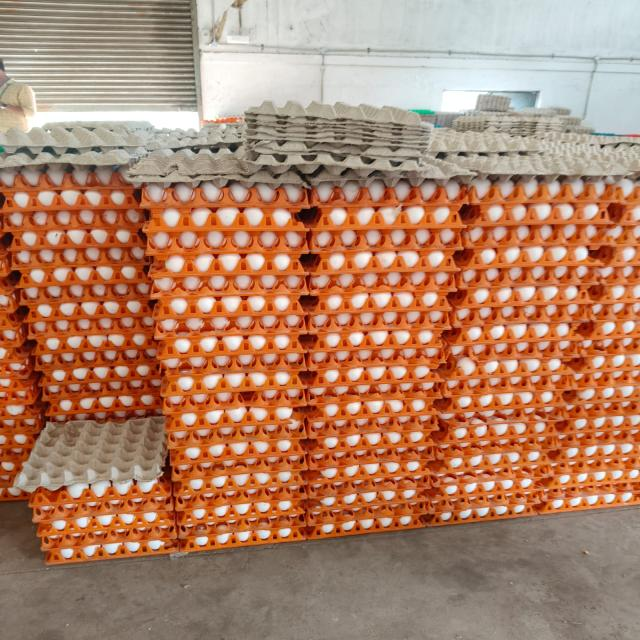egg_tray: (12, 211, 160, 420), (146, 184, 306, 373), (450, 180, 615, 324), (436, 324, 572, 478), (159, 334, 306, 476), (167, 405, 306, 550), (542, 320, 639, 512), (306, 394, 434, 536), (450, 204, 600, 324), (306, 363, 439, 496), (437, 357, 572, 478), (305, 411, 435, 536), (308, 290, 446, 406), (307, 363, 441, 479), (165, 388, 306, 493), (16, 418, 171, 513), (429, 410, 557, 524), (428, 411, 556, 525), (158, 316, 305, 415), (158, 333, 305, 428), (152, 254, 306, 338), (11, 210, 149, 303), (439, 323, 581, 413), (166, 404, 306, 495), (305, 424, 433, 523), (30, 478, 176, 563), (448, 246, 599, 326), (151, 254, 306, 331), (244, 101, 430, 165), (145, 184, 308, 257), (243, 114, 430, 177), (309, 180, 463, 253), (36, 332, 161, 421), (305, 398, 435, 483), (441, 316, 578, 396), (28, 300, 156, 384), (543, 404, 639, 512), (462, 180, 620, 245), (12, 231, 150, 305), (438, 341, 575, 414), (306, 462, 436, 535), (539, 418, 639, 512), (0, 274, 41, 500), (2, 121, 147, 184), (166, 405, 306, 470), (34, 479, 173, 544), (149, 246, 307, 302), (428, 451, 549, 524), (5, 208, 146, 270), (34, 319, 155, 391), (448, 268, 596, 326), (306, 473, 435, 538), (448, 268, 591, 326), (176, 486, 305, 550), (144, 208, 306, 258), (561, 351, 639, 454), (438, 356, 577, 410), (435, 376, 573, 429), (170, 425, 305, 479), (456, 238, 603, 287), (246, 139, 421, 180), (149, 253, 307, 298), (462, 200, 611, 247), (462, 198, 611, 245), (310, 207, 462, 253), (308, 249, 459, 295), (305, 483, 429, 539), (539, 443, 639, 512), (26, 298, 153, 352), (175, 486, 306, 538), (155, 294, 306, 339), (303, 399, 438, 449), (29, 477, 172, 524), (305, 288, 450, 334), (424, 470, 543, 526), (162, 372, 306, 418), (424, 471, 542, 526), (453, 247, 602, 290), (157, 332, 306, 375), (307, 421, 434, 471), (165, 404, 306, 449), (434, 410, 565, 458), (306, 488, 429, 539), (582, 246, 639, 356), (567, 320, 639, 405), (447, 285, 591, 327), (0, 171, 139, 214), (307, 328, 445, 371), (26, 285, 151, 332), (444, 320, 583, 362), (0, 154, 132, 198), (19, 262, 150, 306), (12, 231, 150, 272), (4, 204, 145, 244), (20, 261, 150, 304), (304, 364, 442, 404), (10, 228, 145, 268), (164, 379, 306, 417), (141, 180, 309, 212), (19, 264, 150, 305), (591, 244, 639, 353), (465, 176, 633, 207), (38, 512, 174, 550), (306, 474, 436, 513), (27, 300, 153, 340), (141, 180, 309, 210), (308, 398, 435, 437), (0, 276, 38, 406), (570, 319, 639, 390), (47, 381, 162, 422), (306, 501, 427, 539), (43, 514, 174, 549), (179, 516, 306, 552), (570, 349, 639, 415), (309, 179, 466, 208), (0, 401, 45, 501), (40, 365, 161, 402), (40, 363, 160, 399), (27, 296, 152, 330), (2, 185, 139, 216), (173, 465, 306, 496), (434, 389, 566, 420), (0, 163, 131, 194), (307, 504, 425, 536), (462, 224, 608, 248), (21, 282, 150, 308), (47, 393, 162, 422), (538, 480, 639, 513), (432, 492, 535, 523), (0, 388, 43, 460), (0, 342, 38, 420), (561, 393, 638, 430), (181, 521, 278, 549), (0, 342, 38, 408), (569, 350, 639, 385), (578, 317, 639, 356), (0, 331, 33, 400), (605, 179, 639, 245), (459, 495, 536, 521), (0, 273, 26, 348), (589, 283, 639, 320), (595, 243, 639, 285), (0, 340, 34, 384), (0, 164, 46, 194), (0, 372, 39, 407), (0, 456, 28, 502), (0, 303, 28, 348), (0, 342, 34, 379), (604, 218, 639, 247), (615, 177, 639, 208), (216, 372, 266, 386), (242, 373, 271, 396), (0, 479, 29, 502), (0, 480, 28, 502), (476, 94, 510, 112), (0, 233, 13, 278), (183, 429, 217, 446), (169, 374, 215, 386), (459, 255, 477, 282), (119, 370, 153, 384), (268, 428, 303, 440), (441, 492, 454, 514), (216, 447, 244, 457), (530, 203, 549, 217), (212, 374, 236, 384), (447, 449, 461, 466), (223, 427, 235, 442), (254, 446, 276, 454), (161, 214, 175, 226), (203, 431, 215, 445), (602, 416, 616, 427), (568, 338, 579, 352), (434, 515, 452, 523), (578, 234, 594, 243), (125, 122, 139, 132), (459, 490, 474, 499), (161, 322, 177, 330), (276, 129, 288, 139), (618, 416, 629, 426), (342, 525, 353, 534), (5, 290, 16, 299), (40, 194, 51, 203), (107, 252, 119, 260), (49, 389, 65, 395), (451, 460, 463, 468), (20, 164, 27, 177), (284, 212, 294, 221), (278, 443, 288, 452), (308, 518, 320, 525), (541, 325, 553, 332), (607, 285, 619, 292), (276, 186, 290, 192), (470, 454, 480, 462), (280, 526, 288, 536), (53, 515, 69, 520), (526, 376, 535, 384), (228, 360, 237, 368), (61, 549, 71, 556), (619, 442, 630, 448), (410, 206, 423, 211), (87, 230, 100, 235), (67, 194, 75, 202), (371, 421, 380, 428), (249, 427, 258, 434), (397, 476, 406, 483), (297, 225, 303, 235), (153, 380, 159, 390), (81, 511, 96, 515), (558, 203, 570, 208), (79, 211, 94, 215), (325, 408, 332, 416), (226, 420, 233, 428), (197, 183, 204, 191), (327, 487, 335, 494), (481, 496, 492, 501), (582, 395, 593, 400), (315, 484, 333, 487), (133, 506, 142, 512), (490, 97, 499, 103), (264, 211, 277, 215), (276, 323, 283, 330), (14, 236, 20, 244), (522, 478, 534, 482), (579, 251, 587, 257), (523, 478, 534, 482), (95, 166, 102, 172), (548, 268, 555, 274), (270, 520, 277, 526), (513, 325, 527, 328), (543, 332, 548, 340), (443, 388, 449, 394), (62, 170, 68, 176), (385, 140, 394, 144), (338, 483, 347, 487), (220, 298, 226, 304), (91, 232, 97, 238), (398, 477, 405, 482), (220, 531, 231, 534), (532, 331, 536, 339), (281, 372, 289, 376), (39, 212, 47, 216), (567, 430, 575, 434), (455, 502, 461, 507), (505, 483, 511, 488), (281, 390, 287, 395), (46, 182, 51, 188), (347, 466, 354, 470), (358, 215, 365, 219), (283, 460, 290, 464), (492, 458, 499, 462), (353, 527, 358, 532), (229, 430, 233, 436), (332, 209, 340, 212), (174, 467, 177, 475), (130, 318, 136, 322), (25, 236, 29, 242), (523, 484, 529, 488), (4, 467, 12, 470), (560, 474, 568, 477), (165, 318, 171, 322), (327, 469, 334, 472), (559, 247, 566, 250), (30, 180, 35, 184), (194, 233, 199, 237), (562, 269, 566, 274), (293, 533, 297, 538), (397, 132, 402, 136), (335, 160, 340, 164), (610, 213, 614, 218), (192, 318, 197, 322), (535, 219, 539, 224), (102, 521, 106, 526), (201, 376, 207, 379), (234, 523, 237, 529), (153, 213, 159, 216), (577, 473, 586, 475), (282, 535, 288, 538), (273, 374, 277, 378), (149, 236, 151, 244), (565, 392, 573, 394), (37, 404, 41, 408), (474, 448, 478, 452), (338, 483, 346, 485), (66, 154, 70, 158), (630, 432, 634, 436), (373, 527, 378, 530), (115, 376, 120, 379), (338, 216, 341, 221), (505, 485, 510, 488), (625, 313, 628, 318), (20, 199, 23, 204), (285, 141, 290, 144), (292, 536, 297, 539), (573, 225, 578, 228), (530, 458, 535, 461), (190, 452, 197, 454), (487, 274, 494, 276), (603, 209, 605, 216), (35, 174, 38, 178), (10, 165, 13, 169), (282, 372, 288, 374), (334, 532, 340, 534), (365, 526, 369, 529), (389, 208, 395, 210), (585, 273, 588, 277), (296, 518, 299, 522), (500, 496, 503, 500), (295, 529, 299, 532), (206, 526, 209, 530), (290, 523, 294, 526), (538, 378, 544, 380), (263, 432, 267, 435), (343, 129, 347, 132), (469, 328, 475, 330), (283, 389, 285, 395), (218, 540, 222, 543), (147, 185, 150, 189), (634, 468, 637, 472), (357, 486, 360, 490), (338, 488, 342, 491), (524, 396, 528, 399), (266, 321, 270, 324), (614, 429, 620, 431), (61, 378, 65, 381), (43, 238, 46, 242), (401, 522, 406, 524), (513, 248, 518, 250), (453, 519, 458, 521), (5, 289, 7, 294), (105, 231, 107, 236), (25, 167, 30, 169), (414, 215, 417, 218), (16, 396, 19, 399), (515, 376, 518, 379), (338, 487, 341, 490), (626, 391, 629, 394), (116, 196, 119, 199), (213, 423, 216, 426), (267, 422, 270, 425), (70, 230, 73, 233), (223, 216, 226, 219), (621, 470, 624, 473), (327, 162, 330, 165), (0, 169, 3, 172), (167, 533, 170, 536), (115, 237, 118, 240), (267, 376, 271, 378), (621, 304, 623, 308), (532, 496, 536, 498), (534, 474, 538, 476), (267, 392, 271, 394), (0, 424, 2, 428), (90, 196, 94, 198), (213, 426, 217, 428), (478, 322, 486, 323), (515, 205, 523, 206), (57, 372, 59, 376), (247, 422, 254, 423), (33, 182, 36, 184), (266, 379, 268, 382), (287, 374, 290, 376), (239, 249, 242, 251), (177, 248, 179, 251), (426, 222, 429, 224), (537, 349, 539, 352), (563, 345, 566, 347), (543, 343, 545, 346), (452, 330, 455, 332), (585, 413, 588, 415), (507, 249, 510, 251), (135, 362, 138, 364), (140, 362, 143, 364), (478, 420, 481, 422), (527, 474, 530, 476), (200, 531, 202, 534), (126, 254, 129, 256), (357, 486, 359, 489), (9, 423, 11, 426), (134, 235, 137, 237), (250, 450, 253, 452), (189, 190, 191, 193), (598, 189, 601, 191), (571, 476, 574, 478), (604, 220, 607, 222), (598, 430, 601, 432), (116, 222, 119, 224), (548, 242, 553, 243), (221, 233, 225, 234), (265, 231, 269, 232), (385, 217, 387, 219), (361, 210, 365, 211), (76, 389, 78, 391), (68, 389, 70, 391), (606, 314, 608, 316), (457, 381, 461, 382), (143, 509, 147, 510), (172, 454, 174, 456), (212, 442, 214, 444), (194, 455, 196, 457), (177, 442, 178, 446), (299, 140, 301, 142), (525, 252, 527, 254), (0, 473, 2, 475), (608, 418, 610, 420), (243, 365, 247, 366), (248, 362, 250, 364), (236, 474, 238, 476), (599, 240, 601, 242), (113, 212, 115, 214), (471, 464, 473, 466), (259, 380, 262, 381), (385, 525, 386, 528), (338, 429, 339, 432), (187, 243, 190, 244), (55, 262, 58, 263), (287, 323, 290, 324), (532, 452, 535, 453), (84, 510, 87, 511), (116, 232, 119, 233), (538, 205, 541, 206), (610, 472, 613, 473), (289, 162, 292, 163), (34, 167, 37, 168), (220, 469, 221, 472), (565, 227, 568, 228), (625, 451, 628, 452), (196, 413, 197, 415), (164, 211, 165, 213), (366, 216, 368, 217), (533, 496, 535, 497), (534, 342, 535, 344), (491, 250, 493, 251), (76, 291, 78, 292), (42, 351, 44, 352), (265, 467, 266, 469), (456, 516, 457, 518), (217, 394, 219, 395), (248, 431, 250, 432), (191, 422, 193, 423), (236, 433, 238, 434), (185, 191, 186, 193), (378, 394, 380, 395), (175, 185, 177, 186), (589, 476, 591, 477), (201, 540, 203, 541), (301, 465, 303, 466), (586, 205, 588, 206), (593, 205, 595, 206), (116, 242, 117, 244), (292, 376, 293, 377), (411, 463, 412, 464), (534, 474, 535, 475), (478, 283, 479, 284), (585, 265, 586, 266), (476, 254, 477, 255), (300, 516, 301, 517), (341, 445, 342, 446), (187, 458, 188, 459), (247, 454, 248, 455), (229, 418, 230, 419), (279, 147, 280, 148), (547, 325, 548, 326), (283, 398, 284, 399), (230, 214, 231, 215), (545, 318, 546, 319), (249, 542, 250, 543), (545, 402, 546, 403), (458, 278, 459, 279), (622, 429, 623, 430), (534, 447, 535, 448), (14, 169, 14, 170), (178, 432, 179, 432), (298, 383, 299, 383), (325, 532, 327, 532), (227, 234, 228, 234), (233, 232, 244, 232), (452, 423, 452, 423), (311, 223, 312, 223), (12, 332, 13, 332), (443, 507, 443, 508), (483, 270, 486, 270), (486, 250, 490, 250), (540, 248, 541, 248), (275, 461, 277, 461), (87, 389, 87, 390), (278, 410, 279, 410), (285, 536, 286, 536), (214, 530, 214, 530), (195, 523, 205, 523), (258, 392, 259, 392), (78, 325, 80, 325), (325, 476, 326, 476), (414, 470, 414, 470), (334, 422, 334, 423), (14, 278, 14, 282), (149, 510, 151, 510), (165, 508, 165, 508), (230, 430, 230, 434), (101, 238, 101, 239), (250, 456, 252, 456), (123, 401, 123, 402), (487, 332, 490, 332), (187, 401, 188, 401), (245, 392, 245, 396), (269, 392, 270, 392), (240, 392, 242, 392), (250, 212, 250, 212), (272, 190, 273, 190), (269, 188, 270, 188), (563, 387, 563, 388), (298, 538, 299, 538), (591, 252, 592, 252), (527, 214, 528, 214), (614, 434, 616, 434), (103, 212, 108, 212)
